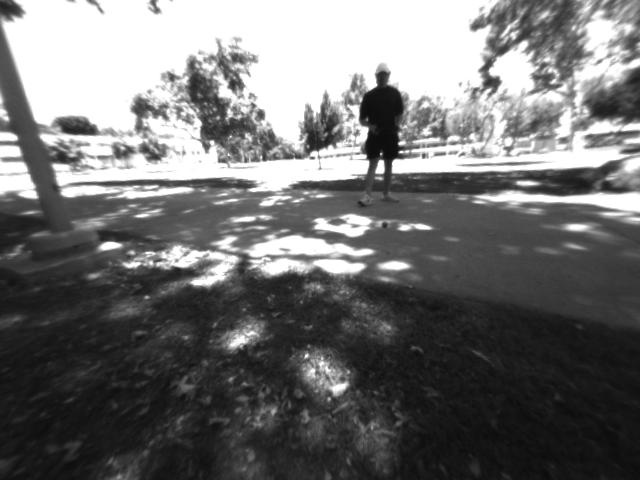dogtoy: (376, 217, 395, 230)
